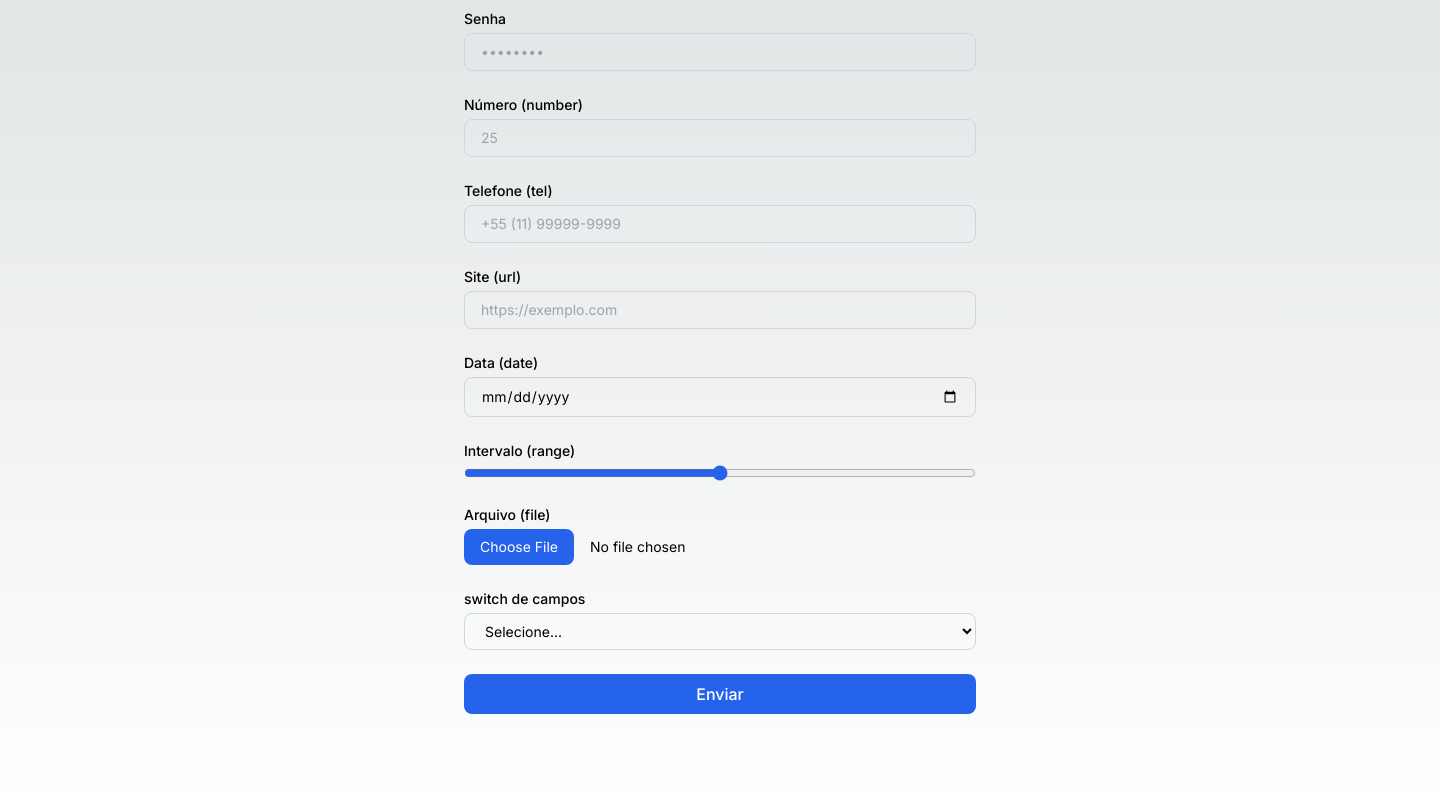
ContactPage › renderização condicional pelo SelectField › exibe o fieldset de radio ao selecionar campo-1
(page scrolled)
Select "campo-1" in the dropdown: [720, 632] box [464,613,976,650]
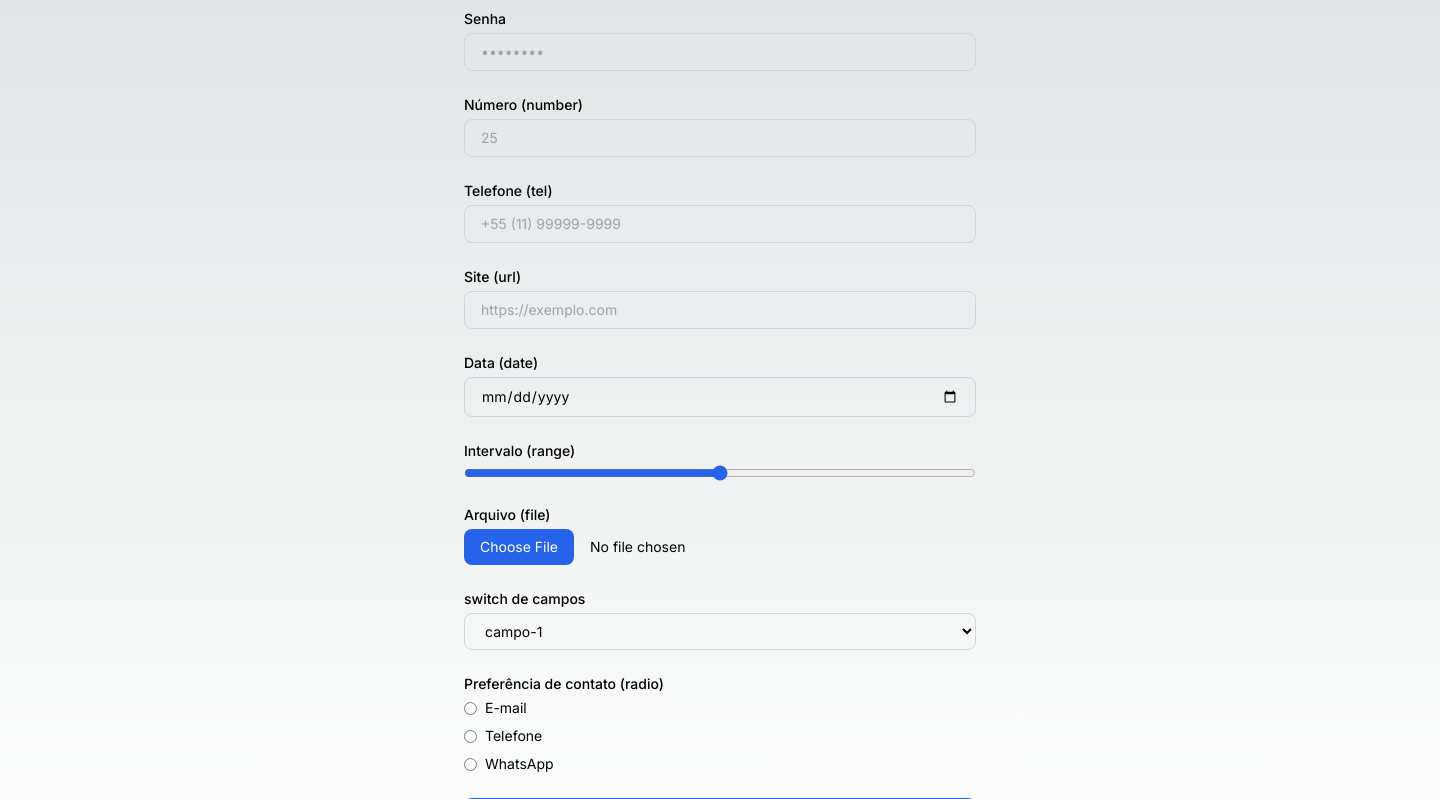
Check: the text "Preferência de contato (radio)" is shown, box [464,674,664,694]
